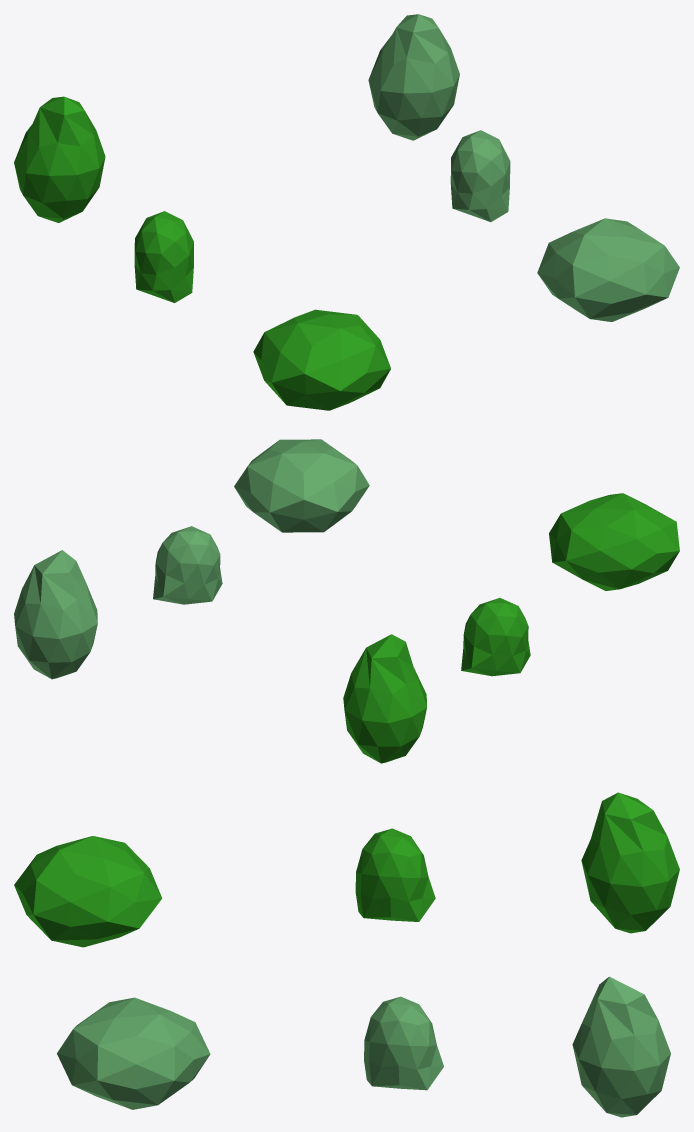
Rendered from BUSHES.fbx.
3 renders of one model, top to bottom at view 1: azimuth 30°, elevation 25°; view 2: azimuth 150°, elevation 25°; view 3: azimuth 270°, elevation 25°, orthographic. The views are drawn at different scales.
Parts seen in each view (by area): view 1: Bush.004, Bush.001, bush.006, bush.004, Bush.003, Bush.002; view 2: Bush.001, Bush.004, bush.004, bush.006, Bush.003, Bush.002; view 3: Bush.004, Bush.001, bush.006, bush.004, Bush.003, Bush.002.
Part boxes in pixels (left/top/right/bottom): Bush.004: left=537, top=218, right=679, bottom=321; Bush.001: left=253, top=309, right=390, bottom=410; bush.006: left=14, top=96, right=105, bottom=222; bush.004: left=368, top=14, right=459, bottom=140; Bush.003: left=134, top=211, right=193, bottom=302; Bush.002: left=450, top=130, right=510, bottom=221; Bush.001: left=549, top=493, right=679, bottom=590; Bush.004: left=234, top=439, right=369, bottom=532; bush.004: left=14, top=550, right=97, bottom=679; bush.006: left=343, top=634, right=426, bottom=763; Bush.003: left=461, top=598, right=530, bottom=676; Bush.002: left=153, top=526, right=222, bottom=604; Bush.004: left=57, top=997, right=210, bottom=1109; Bush.001: left=14, top=836, right=162, bottom=947; bush.006: left=581, top=792, right=679, bottom=933; bush.004: left=572, top=976, right=670, bottom=1117; Bush.003: left=355, top=828, right=435, bottom=921; Bush.002: left=364, top=996, right=443, bottom=1090.
Bounding box in the file's own units: 4.68 × 1.34 × 5.73.
